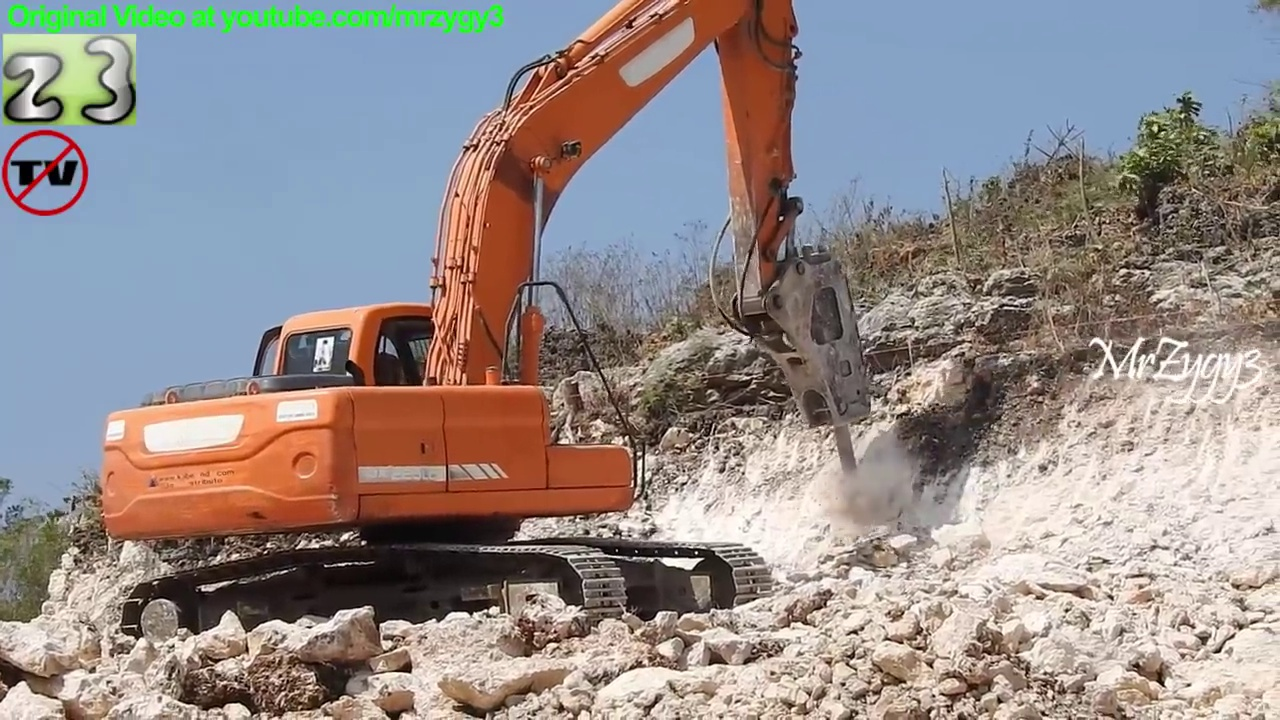excavator: (93, 1, 882, 645)
